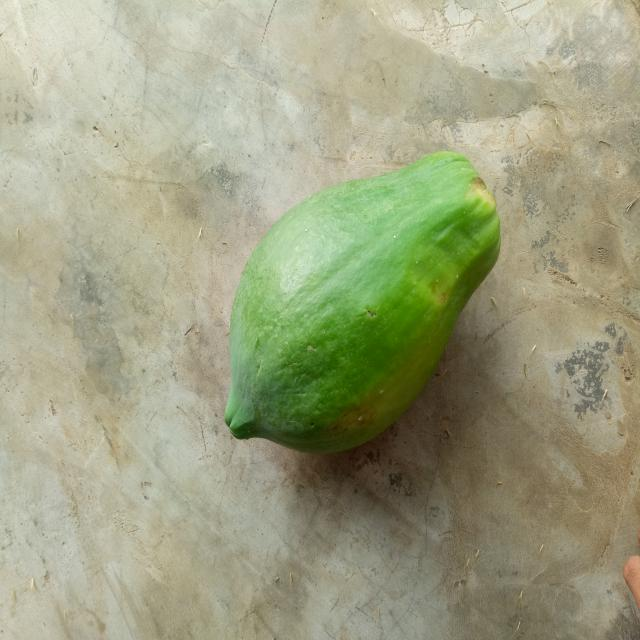Pepaya unrippen: (215, 144, 508, 484)
